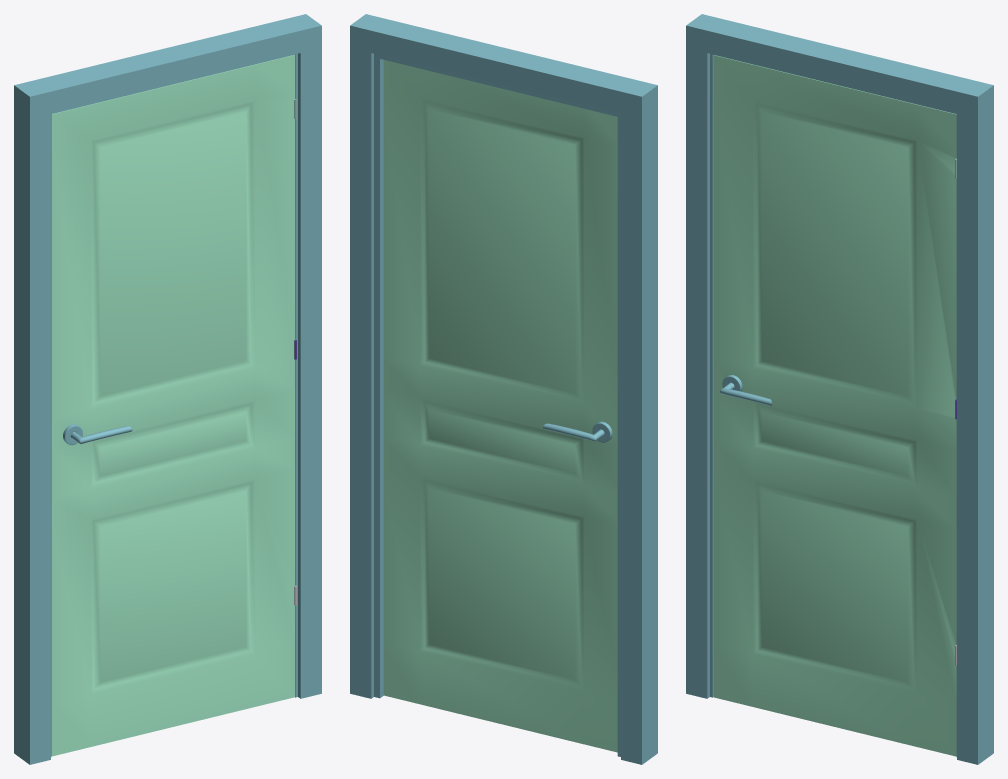
The picture shows the model from 3 angles, left to right: view 1: azimuth 30°, elevation 25°; view 2: azimuth 150°, elevation 25°; view 3: azimuth 330°, elevation 25°; orthographic projection.
Parts seen in each view (by area): view 1: Object_3, split_parent_0; view 2: Object_3, split_parent_0; view 3: Object_3, split_parent_0.
Part boxes in pixels (x1,y1,x2,y2): Object_3: [51, 55, 294, 756]; split_parent_0: [14, 14, 321, 764]; Object_3: [383, 60, 617, 752]; split_parent_0: [350, 14, 657, 764]; Object_3: [713, 55, 956, 756]; split_parent_0: [686, 14, 993, 764].
Size of the model in its own units: 0.4573 by 1 by 0.0833.
